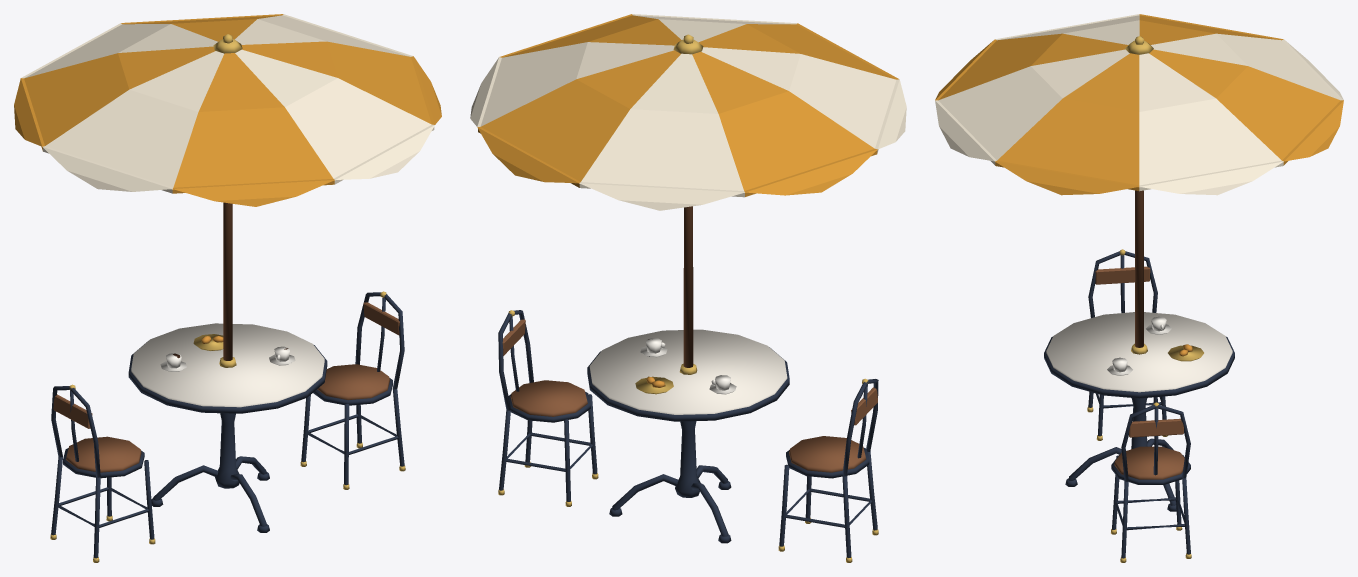
Rendered from prop_cafe_bistro_set.glb.
3 renders of one model, left to right at view 1: azimuth 30°, elevation 25°; view 2: azimuth 150°, elevation 25°; view 3: azimuth 270°, elevation 25°, orthographic. The views are drawn at different scales.
Visible parts, largest first — view 1: prop_cafe_bistro_set; view 2: prop_cafe_bistro_set; view 3: prop_cafe_bistro_set.
Boxes of the visible parts, x1,y1,x2,y2 form: prop_cafe_bistro_set: (14, 14, 441, 562); prop_cafe_bistro_set: (470, 14, 906, 562); prop_cafe_bistro_set: (935, 14, 1343, 562).
Bounding box in the file's own units: 2.11 × 2.55 × 2.11.
